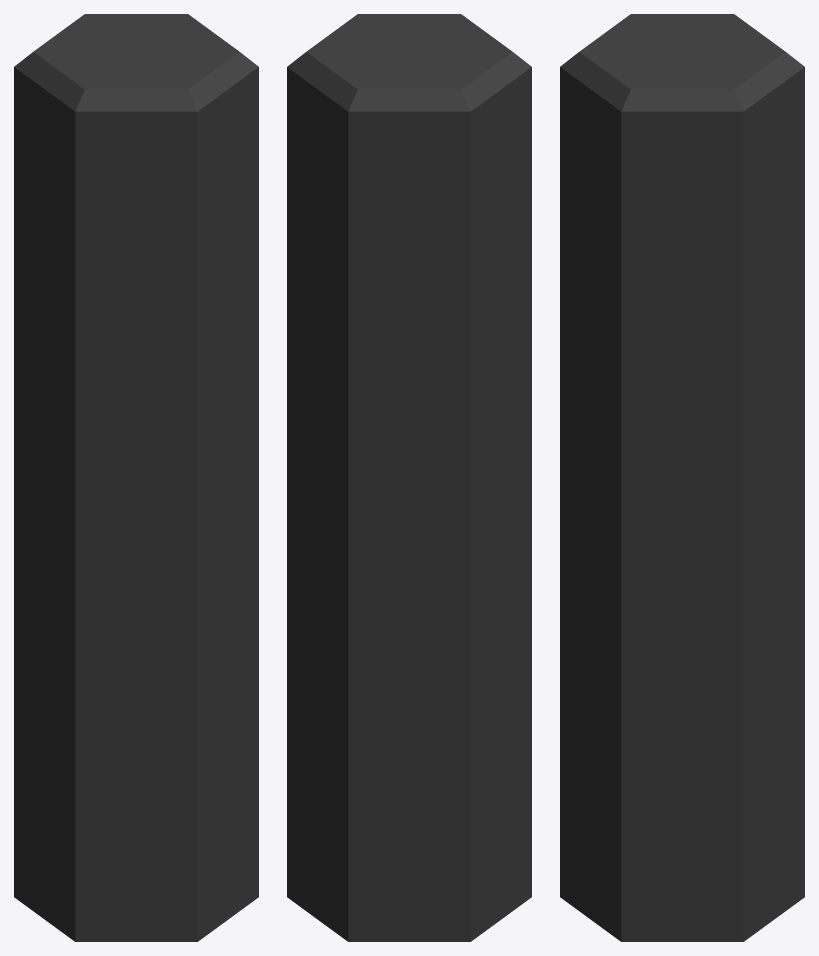
The model's file is Stone_3.fbx.
3 views of the same model, side by side, from view 1: azimuth 30°, elevation 25°; view 2: azimuth 150°, elevation 25°; view 3: azimuth 270°, elevation 25° (orthographic).
Visible parts, largest first — view 1: Stone; view 2: Stone; view 3: Stone.
Boxes of the visible parts, x1,y1,x2,y2 form: Stone: [14, 14, 258, 941]; Stone: [287, 14, 531, 941]; Stone: [560, 14, 804, 941].
Size of the model in its own units: 173 by 762 by 200.
